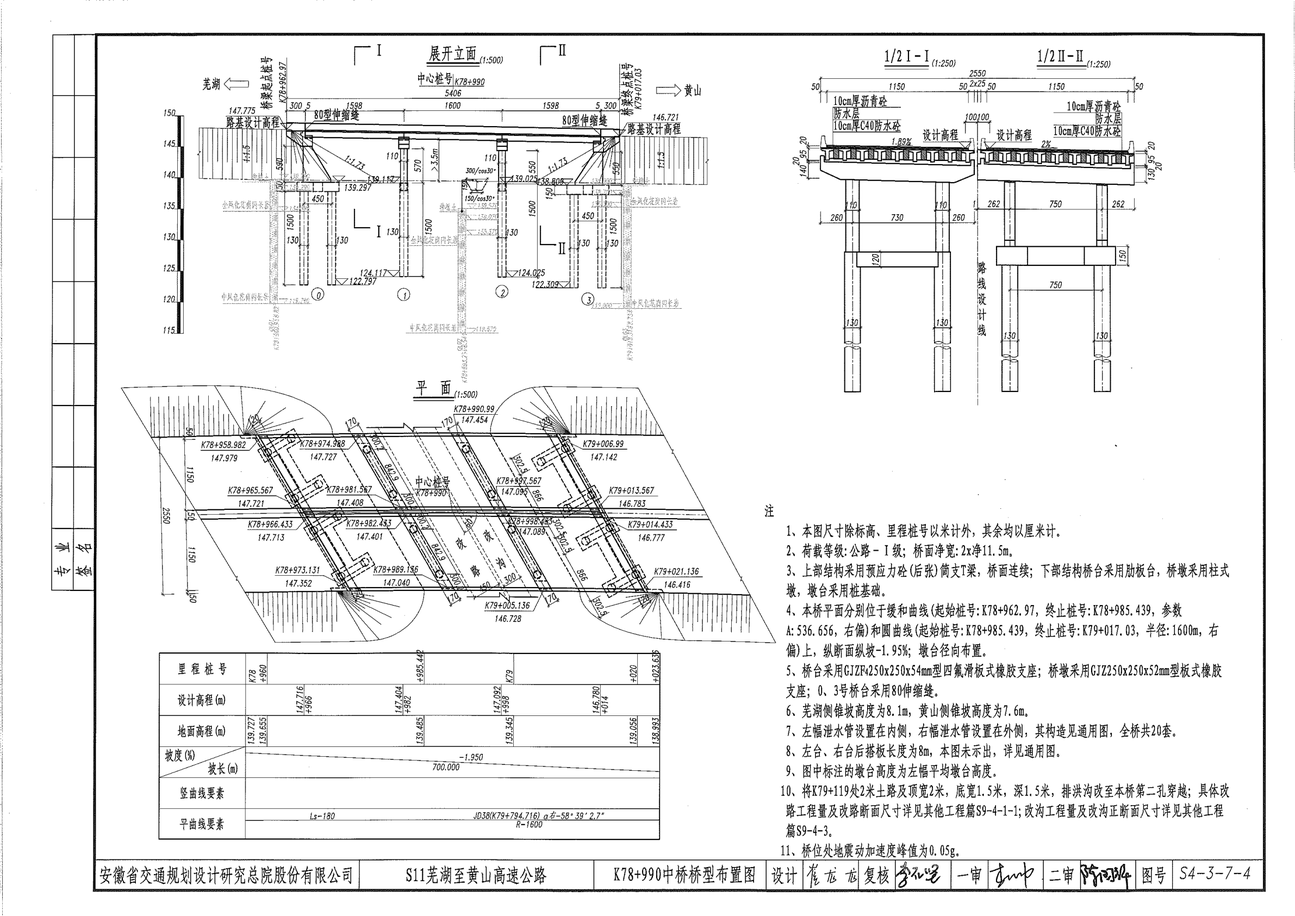A: (155, 41, 717, 360)
